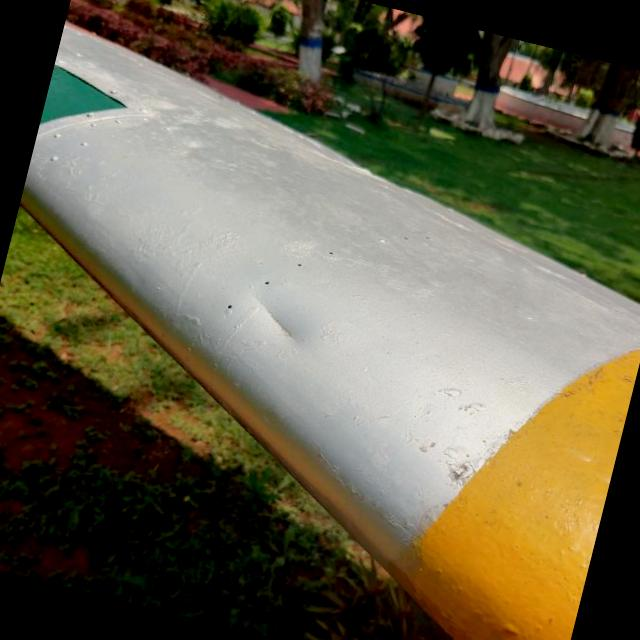dent: (211, 248, 338, 367)
